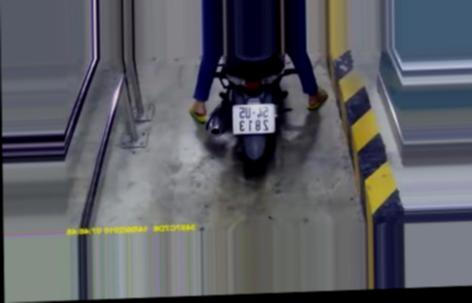License_Plate: (229, 101, 280, 140)
